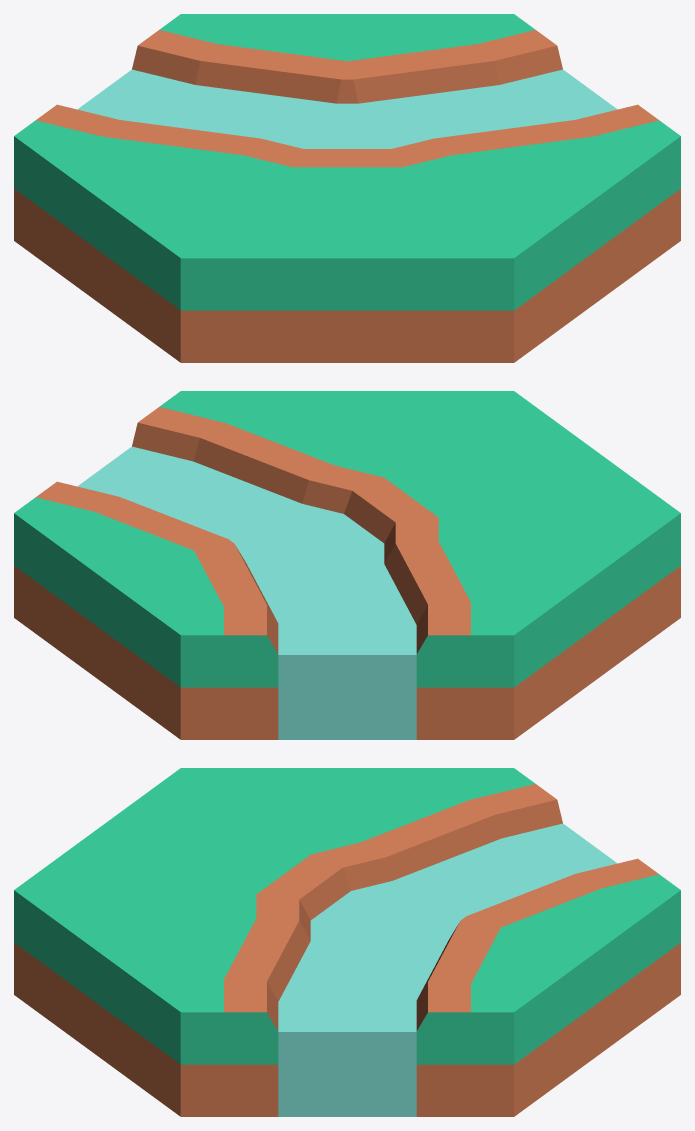
The model's file is river_corner.dae.
The picture shows the model from 3 angles, top to bottom: view 1: azimuth 30°, elevation 25°; view 2: azimuth 150°, elevation 25°; view 3: azimuth 270°, elevation 25°; orthographic projection.
Parts seen in each view (by area): view 1: river_corner; view 2: river_corner; view 3: river_corner.
Part boxes in pixels (bbox=[...]): river_corner: bbox=[14, 14, 680, 362]; river_corner: bbox=[14, 391, 680, 739]; river_corner: bbox=[14, 768, 680, 1116].
Size of the model in its own units: 1 by 0.2 by 1.15.
